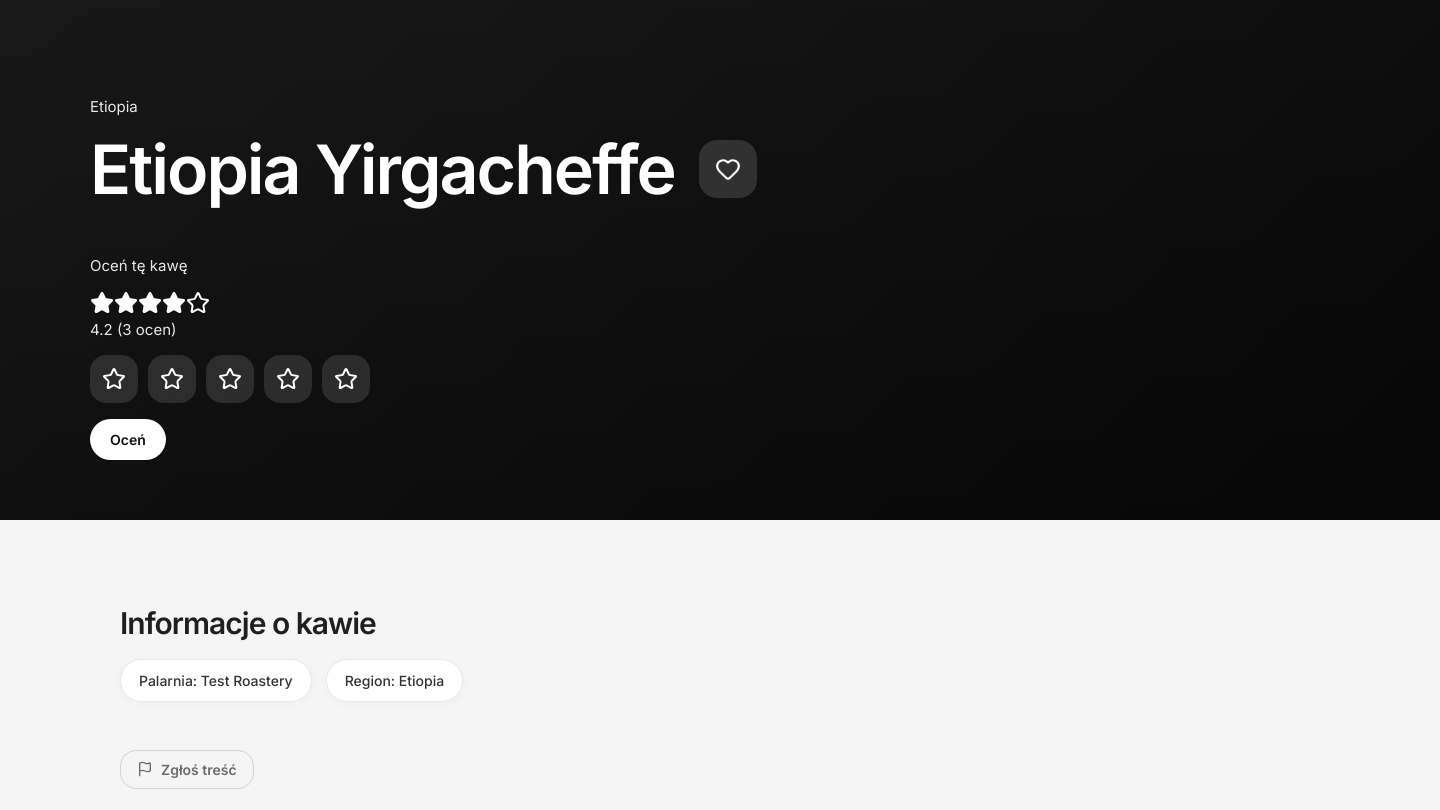
Test: CoffeeDetails › submits rating for another users coffee
The width and height of the screenshot is (1440, 810).
Expected: the heading "Etiopia Yirgacheffe" is shown, [90, 128, 675, 210]
Click the 5th button at (288, 379), box [264, 355, 312, 403]
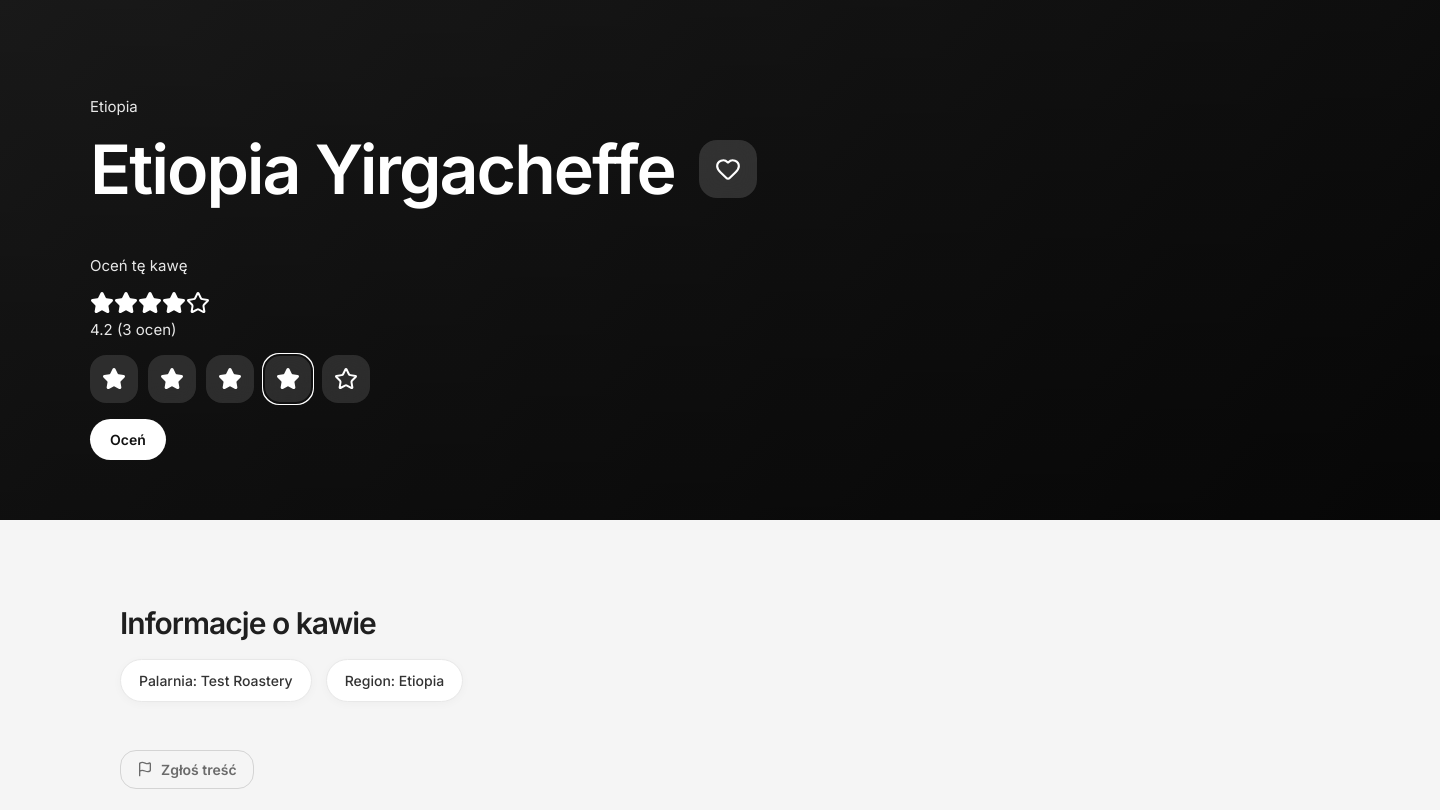
Click the button "Oceń" at (128, 440), box [90, 419, 166, 460]
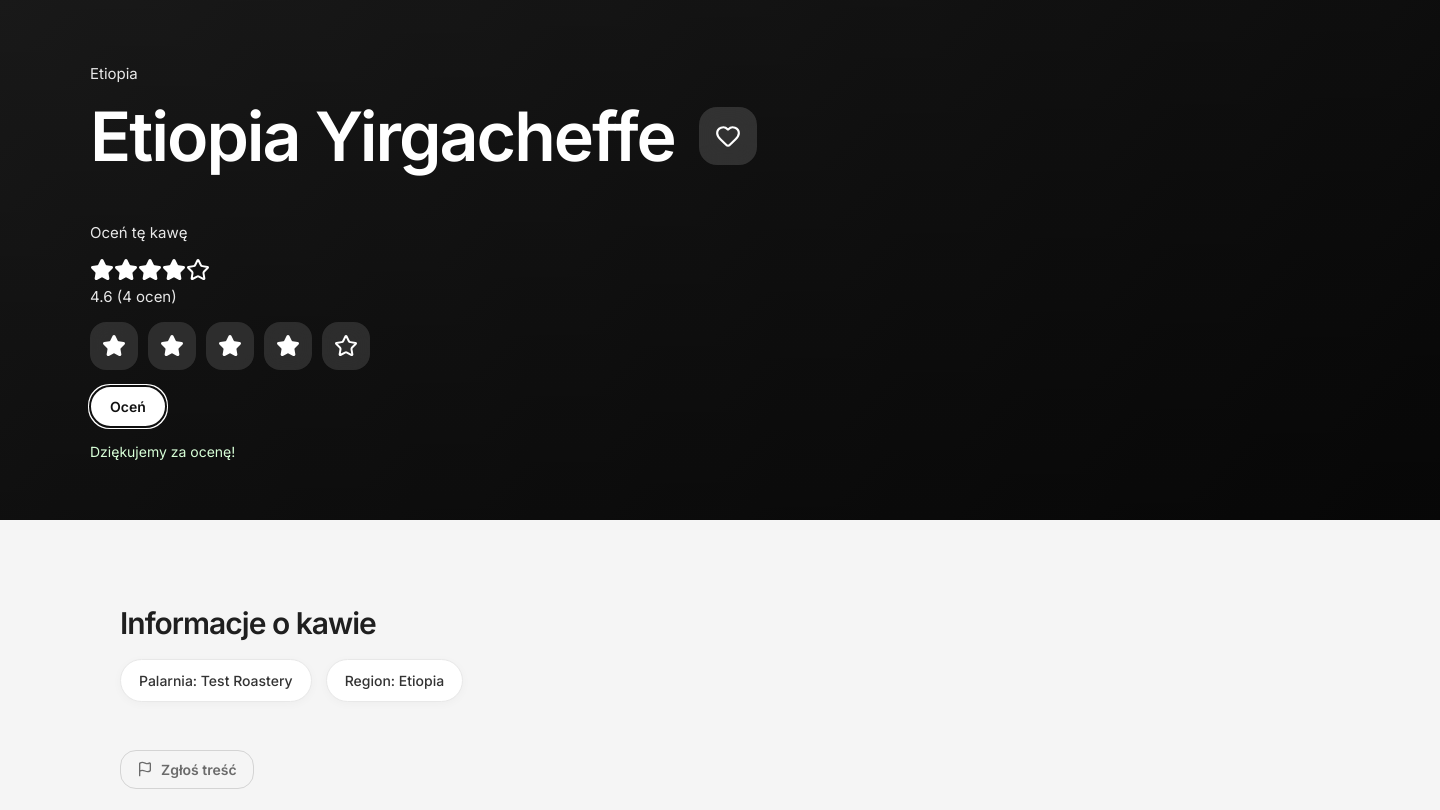
Expected: the text "Dziękujemy za ocenę!" is shown, [90, 443, 235, 460]
